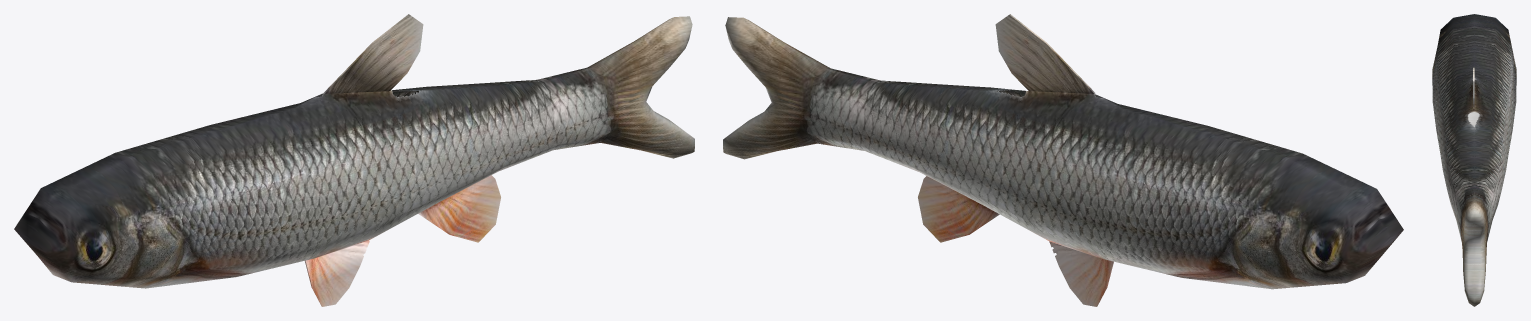
File: fish.fbx
3 renders of one model, left to right at view 1: azimuth 30°, elevation 25°; view 2: azimuth 150°, elevation 25°; view 3: azimuth 270°, elevation 25°, orthographic. The views are drawn at different scales.
Parts seen in each view (by area): view 1: Fish; view 2: Fish; view 3: Fish.
Part boxes in pixels (<box>): Fish: <box>14,14,694,306</box>; Fish: <box>723,14,1403,306</box>; Fish: <box>1432,14,1516,306</box>.
Bounding box in the file's own units: 471 × 183 × 74.86.
